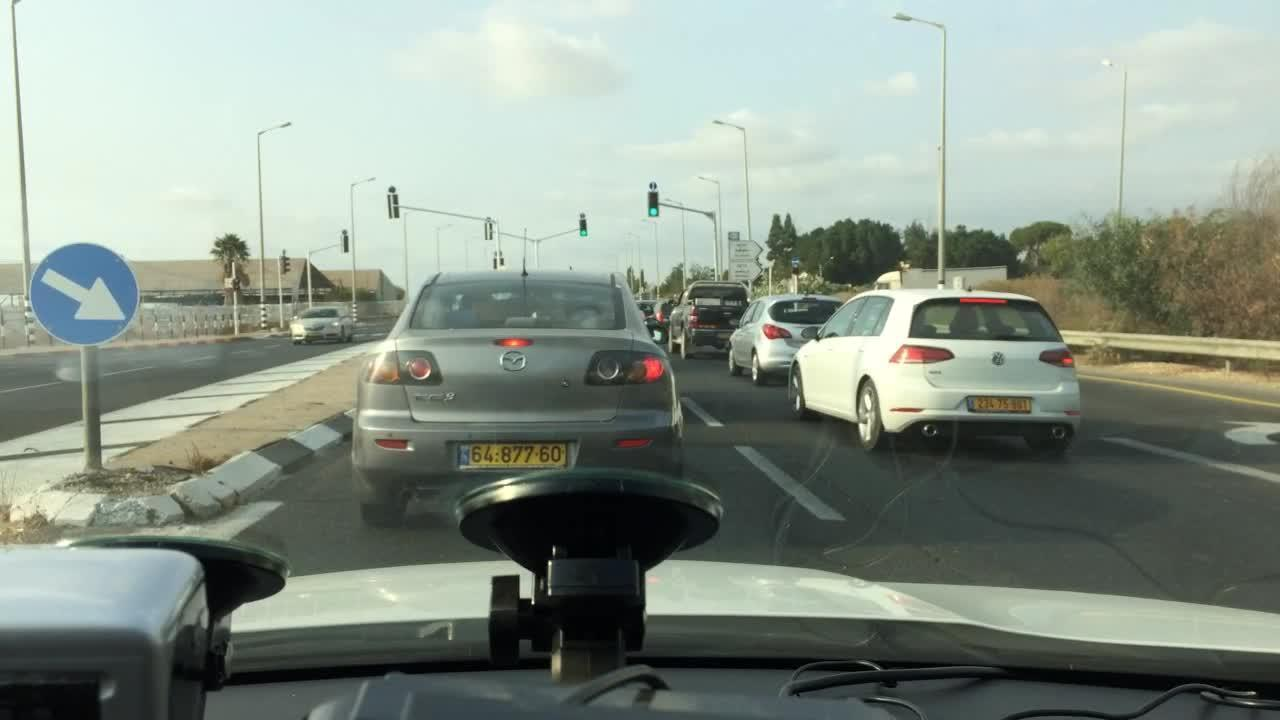Mazda: (490, 343, 536, 379)
Volkswagen: (986, 348, 1009, 368)
